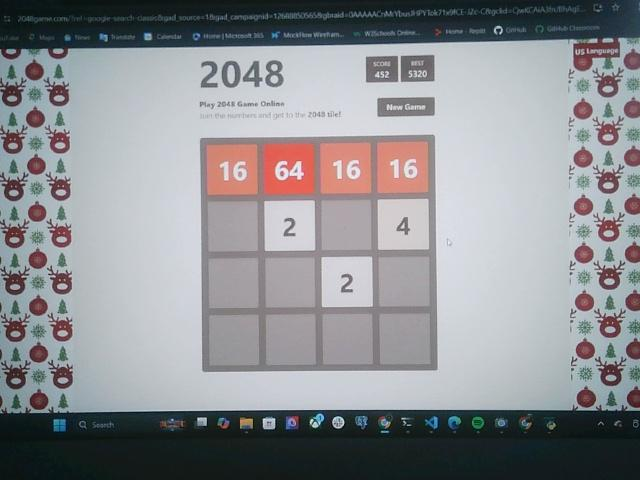board: (202, 137, 437, 367)
tile: (376, 139, 430, 195), (318, 141, 373, 195), (378, 198, 431, 250), (264, 201, 317, 252), (264, 143, 314, 196), (207, 144, 259, 194), (323, 257, 373, 308)
